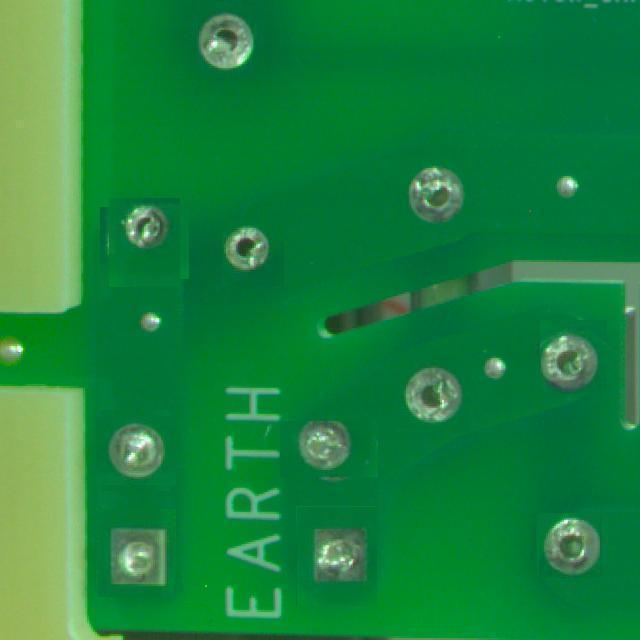lack_of_part: (296, 506, 377, 606), (386, 153, 476, 237), (97, 508, 176, 597), (104, 203, 185, 283), (395, 353, 472, 430), (279, 420, 378, 477), (98, 413, 173, 488), (538, 321, 609, 392), (221, 221, 286, 285), (538, 514, 601, 578), (197, 5, 254, 73)
